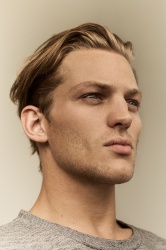Forehead: (51, 46, 140, 93)
